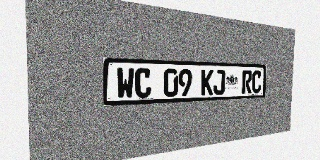0: (163, 68, 178, 97)
9: (178, 69, 192, 96)
C: (135, 68, 151, 98), (252, 71, 262, 93)
J: (213, 70, 225, 95)
K: (201, 69, 213, 95)
R: (242, 70, 252, 94)
W: (116, 67, 134, 99)
